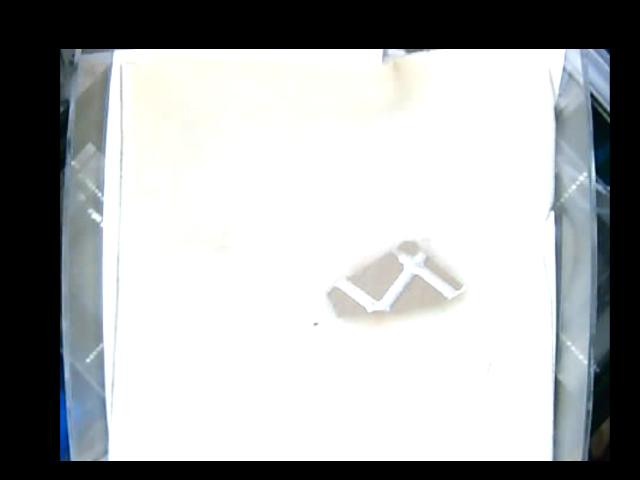China: (330, 238, 467, 316)
